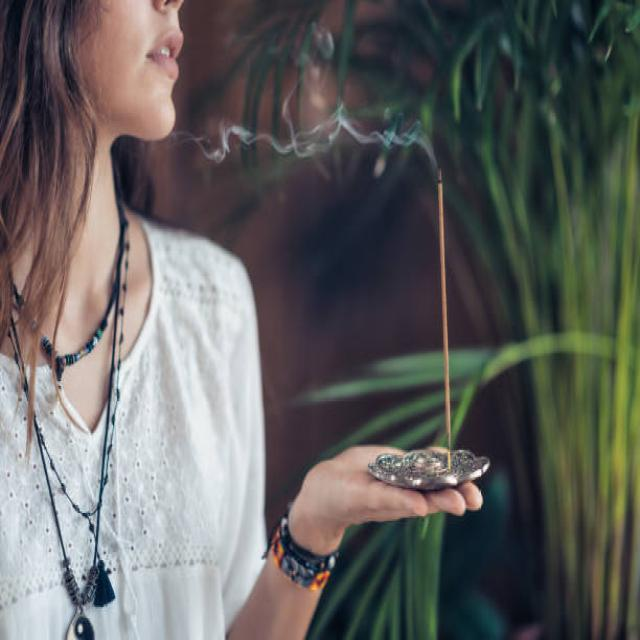Agarbatti: (425, 159, 467, 472)
